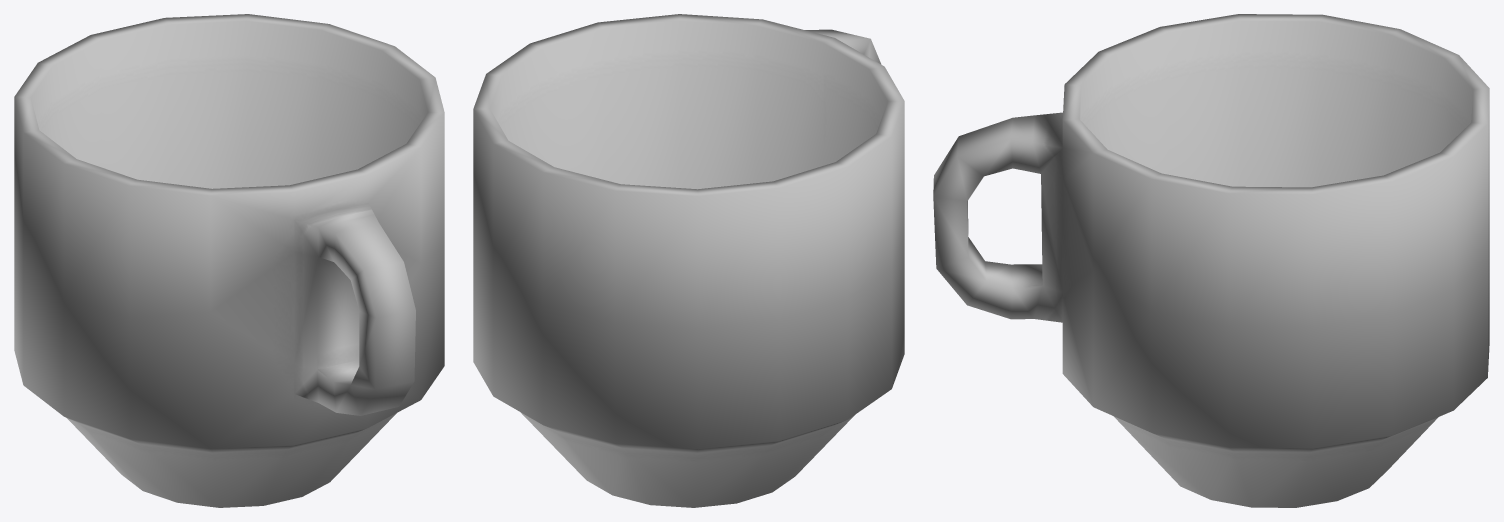
The model's file is SM_Mug_A3.fbx.
3 views of the same model, side by side, from view 1: azimuth 30°, elevation 25°; view 2: azimuth 150°, elevation 25°; view 3: azimuth 270°, elevation 25° (orthographic).
Visible parts, largest first — view 1: SM_Mug_A3; view 2: SM_Mug_A3; view 3: SM_Mug_A3.
Boxes of the visible parts, <box> form: SM_Mug_A3: <box>14,14,444,507</box>; SM_Mug_A3: <box>473,14,904,507</box>; SM_Mug_A3: <box>933,14,1489,507</box>.
Size of the model in its own units: 8.89 by 11.59 by 8.19.
Materials: 1 (1 with a texture image).
